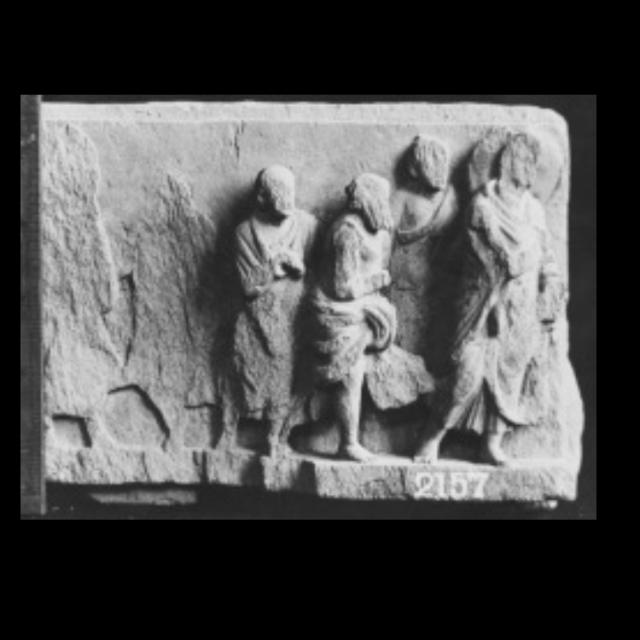buddha-standing: (421, 129, 566, 464)
